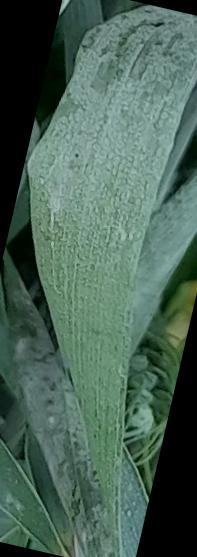Wheat: (12, 358, 119, 549), (47, 200, 159, 298), (60, 104, 151, 186), (99, 31, 192, 93)
